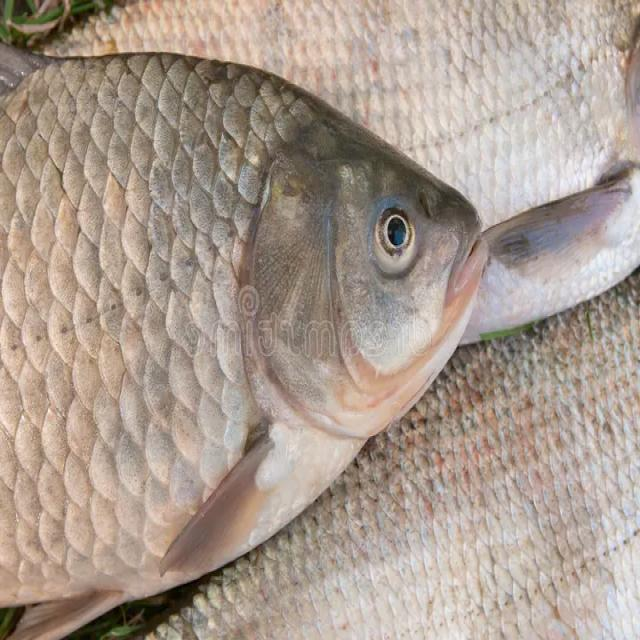Common carp: (0, 45, 491, 640)
